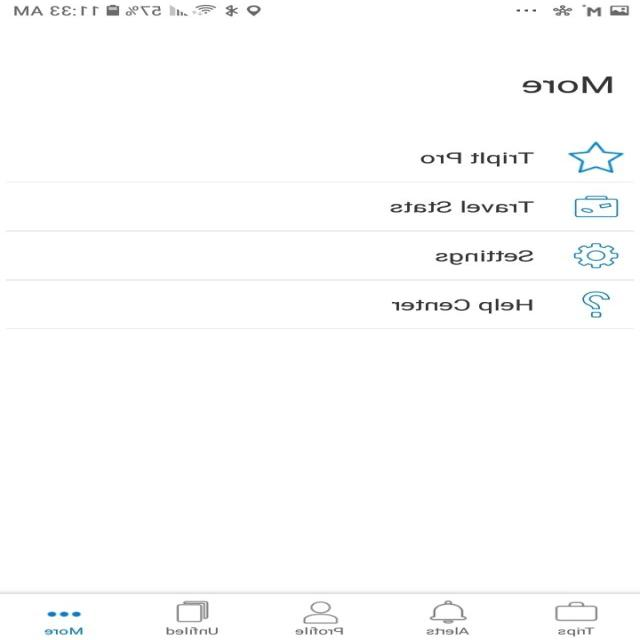Icon: (568, 142, 625, 174), (573, 242, 619, 268), (574, 195, 619, 217), (555, 600, 598, 622), (430, 600, 468, 624), (303, 600, 339, 624), (582, 290, 610, 318), (177, 600, 211, 622), (48, 610, 83, 616)
Text: (392, 298, 534, 313), (390, 200, 535, 213), (420, 152, 534, 166), (522, 76, 612, 93), (436, 250, 534, 265), (166, 626, 219, 634), (295, 626, 344, 634), (426, 626, 472, 634), (558, 627, 596, 636), (46, 626, 84, 634)
